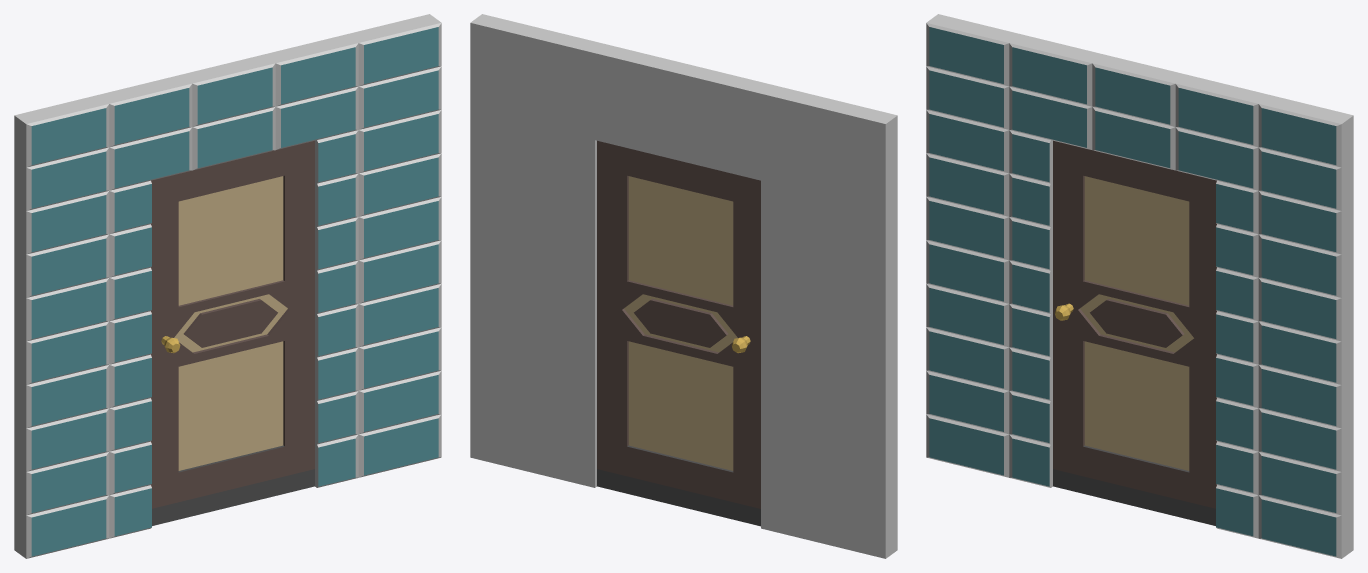
The model's file is Bathroom Doorway.fbx.
3 renders of one model, left to right at view 1: azimuth 30°, elevation 25°; view 2: azimuth 150°, elevation 25°; view 3: azimuth 330°, elevation 25°, orthographic.
Parts seen in each view (by area): view 1: Bathroom Doorway, Door; view 2: Bathroom Doorway, Door; view 3: Bathroom Doorway, Door.
Boxes of the visible parts, box(x1,y1,x2,y2) form: Bathroom Doorway: box(14, 14, 441, 558); Door: box(151, 140, 314, 525); Bathroom Doorway: box(470, 14, 897, 558); Door: box(597, 140, 760, 526); Bathroom Doorway: box(926, 14, 1353, 558); Door: box(1053, 140, 1216, 525).
Size of the model in its own units: 2000 by 2000 by 240.
